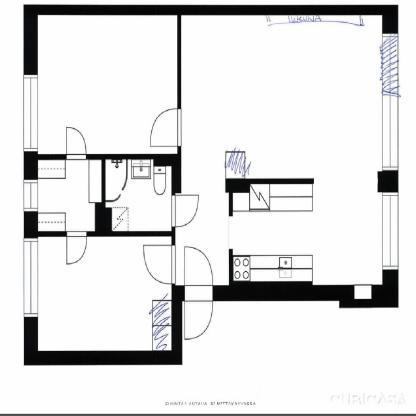door: (183, 245, 214, 341), (141, 244, 176, 288), (150, 109, 183, 148), (171, 194, 199, 229), (65, 126, 88, 161), (67, 230, 87, 265)
window: (383, 34, 398, 170), (23, 237, 37, 317), (24, 74, 38, 152), (383, 192, 397, 266), (24, 180, 39, 212)
zone: (176, 14, 382, 285), (37, 13, 177, 152), (37, 234, 171, 351), (105, 158, 171, 232), (37, 159, 102, 233)
